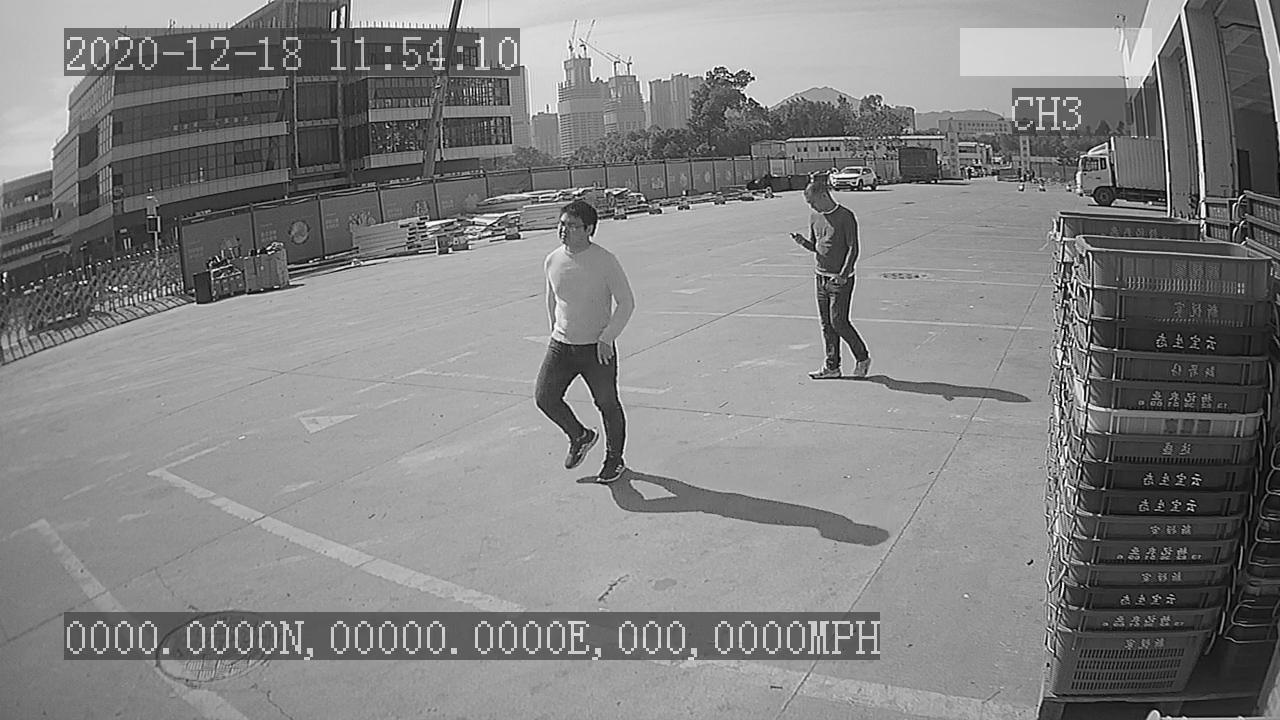person: (520, 194, 649, 485), (786, 177, 879, 388)
